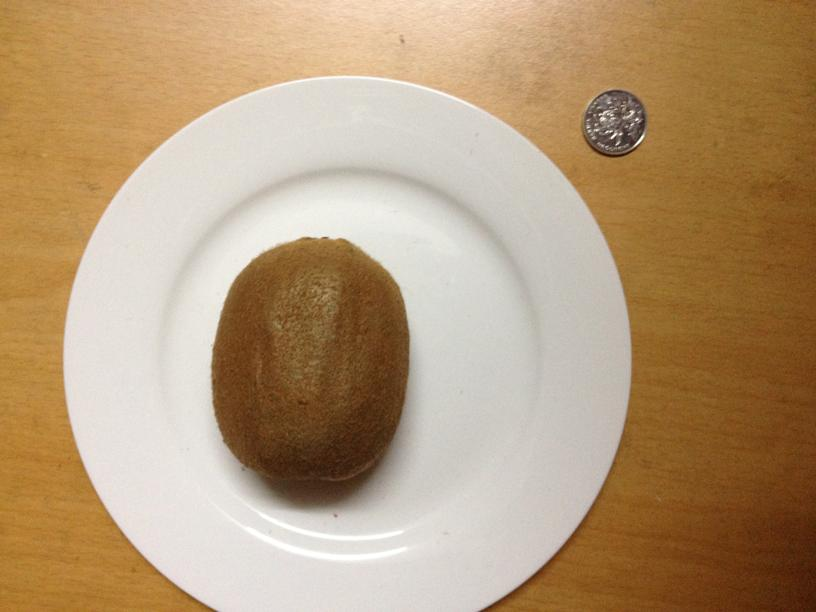coin: (582, 91, 650, 155)
qiwi: (215, 230, 410, 483)
